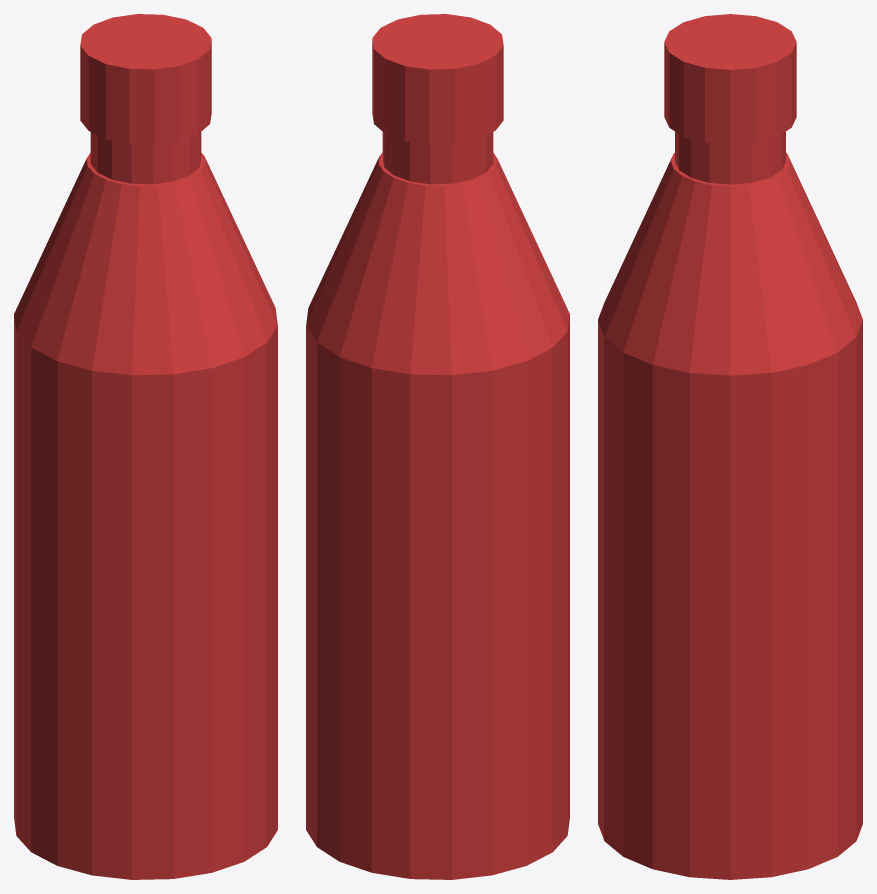
File: g_ketchup.glb
3 views of the same model, side by side, from view 1: azimuth 30°, elevation 25°; view 2: azimuth 150°, elevation 25°; view 3: azimuth 270°, elevation 25° (orthographic).
Visible parts, largest first — view 1: g_ketchup; view 2: g_ketchup; view 3: g_ketchup.
Part boxes in pixels (x1,y1,x2,y2): g_ketchup: (14, 14, 277, 879); g_ketchup: (306, 14, 569, 879); g_ketchup: (598, 14, 862, 879).
Bounding box in the file's own units: 0.08 × 0.2605 × 0.08.
